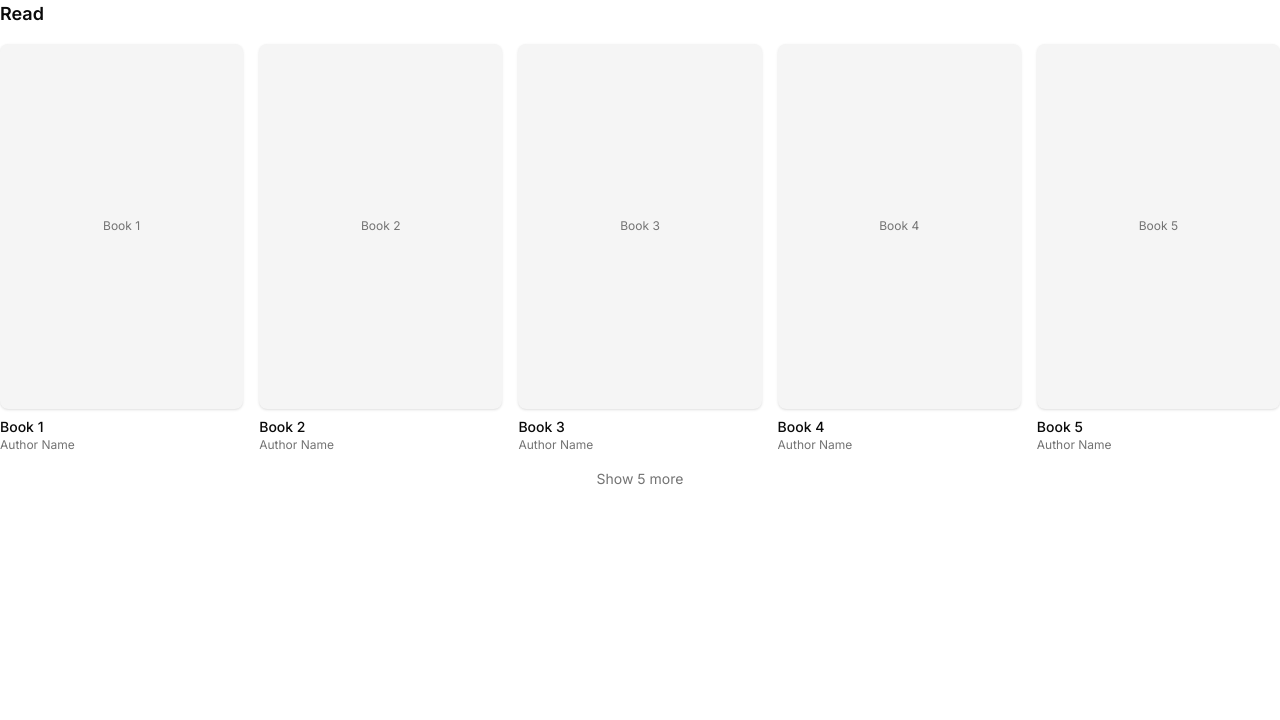
Test: ShelfSection › changes button label to "Show fewer" when expanded
Click the button "Show 5 more" at (640,479), box [0,469,1279,489]
(page scrolled)
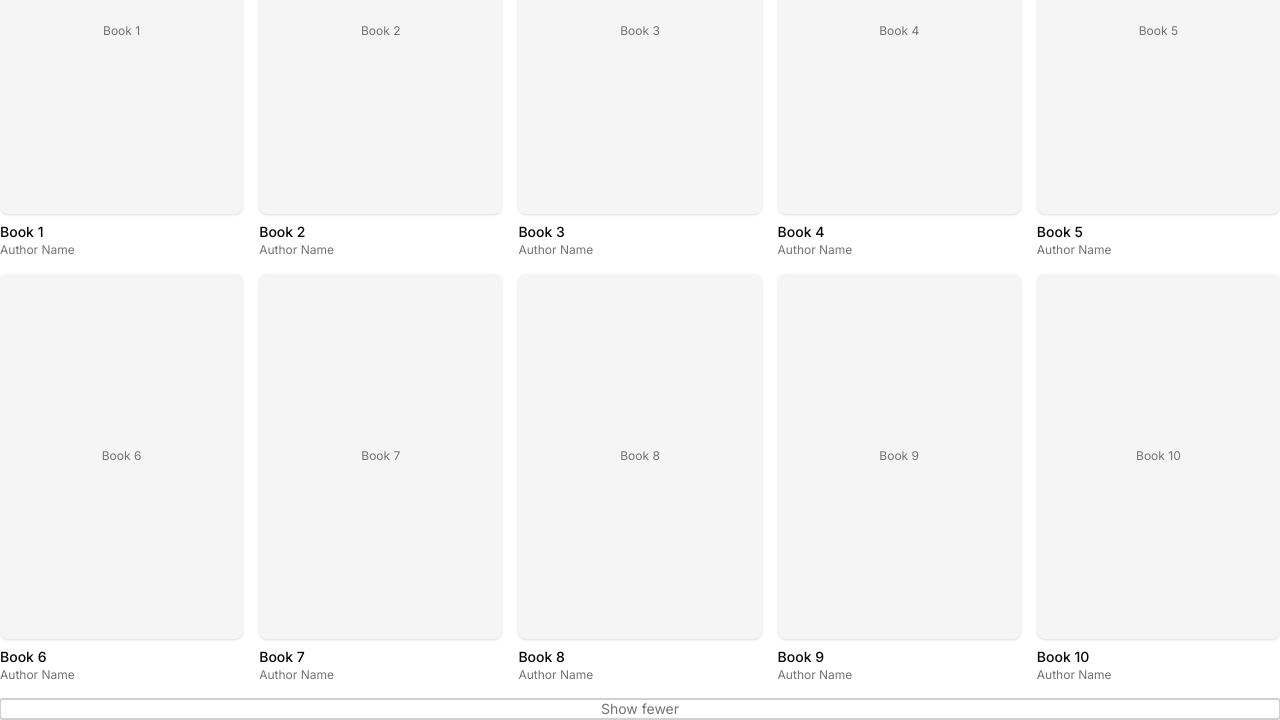
Expected: the button "Show fewer" is shown, [0,699,1279,719]
